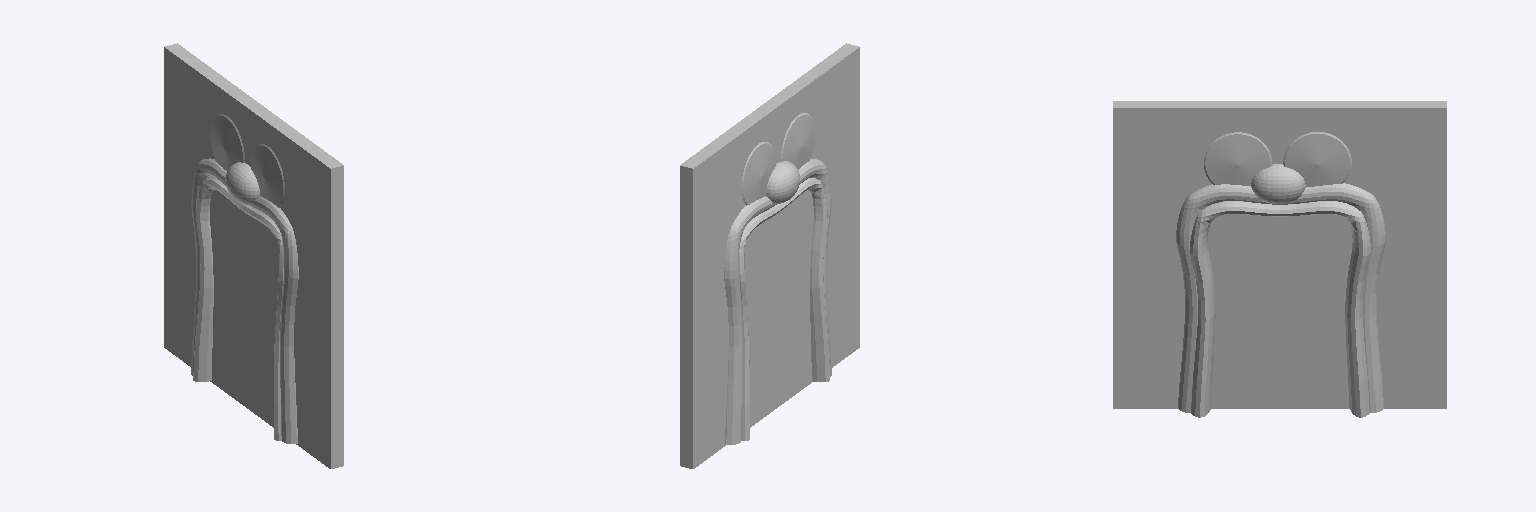
File: DoorFrame3.obj
3 views of the same model, side by side, from view 1: azimuth 30°, elevation 25°; view 2: azimuth 150°, elevation 25°; view 3: azimuth 270°, elevation 25° (orthographic).
Parts seen in each view (by area): view 1: Cube.004, Cube.009, Cube.008, Sphere.002, Sphere.003, Cube.001; view 2: Cube.004, Cube.009, Cube.008, Sphere.003, Sphere.002, Cube.001; view 3: Cube.004, Cube.002, Cube.003, Sphere.001, Sphere, Cube.007.
Boxes of the visible parts, x1=… form: Cube.004: x1=164, y1=43, x2=343, y2=468; Cube.009: x1=191, y1=158, x2=298, y2=443; Cube.008: x1=193, y1=177, x2=283, y2=440; Sphere.002: x1=251, y1=144, x2=284, y2=207; Sphere.003: x1=210, y1=114, x2=244, y2=170; Cube.001: x1=225, y1=162, x2=259, y2=205; Cube.004: x1=680, y1=43, x2=859, y2=468; Cube.009: x1=724, y1=159, x2=831, y2=444; Cube.008: x1=739, y1=178, x2=829, y2=440; Sphere.003: x1=741, y1=142, x2=775, y2=205; Sphere.002: x1=781, y1=113, x2=814, y2=169; Cube.001: x1=766, y1=161, x2=799, y2=204; Cube.004: x1=1113, y1=101, x2=1446, y2=408; Cube.002: x1=1190, y1=201, x2=1370, y2=417; Cube.003: x1=1176, y1=183, x2=1385, y2=412; Sphere.001: x1=1283, y1=132, x2=1351, y2=186; Sphere: x1=1204, y1=132, x2=1271, y2=185; Cube.007: x1=1251, y1=164, x2=1305, y2=203.
Bounding box in the file's own units: 1.44 × 7.91 × 7.95.